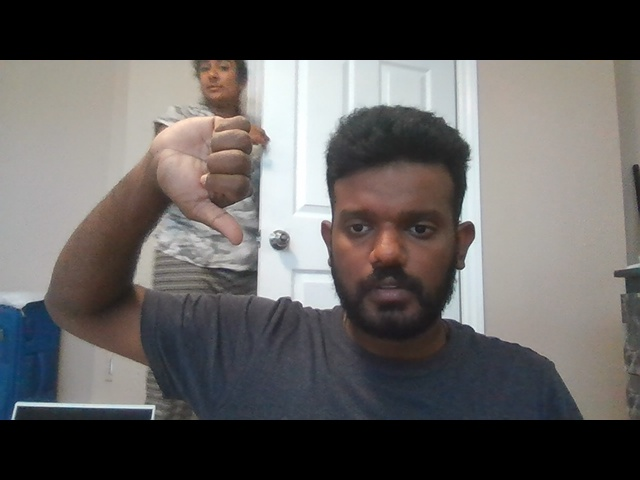no: (146, 117, 271, 249)
